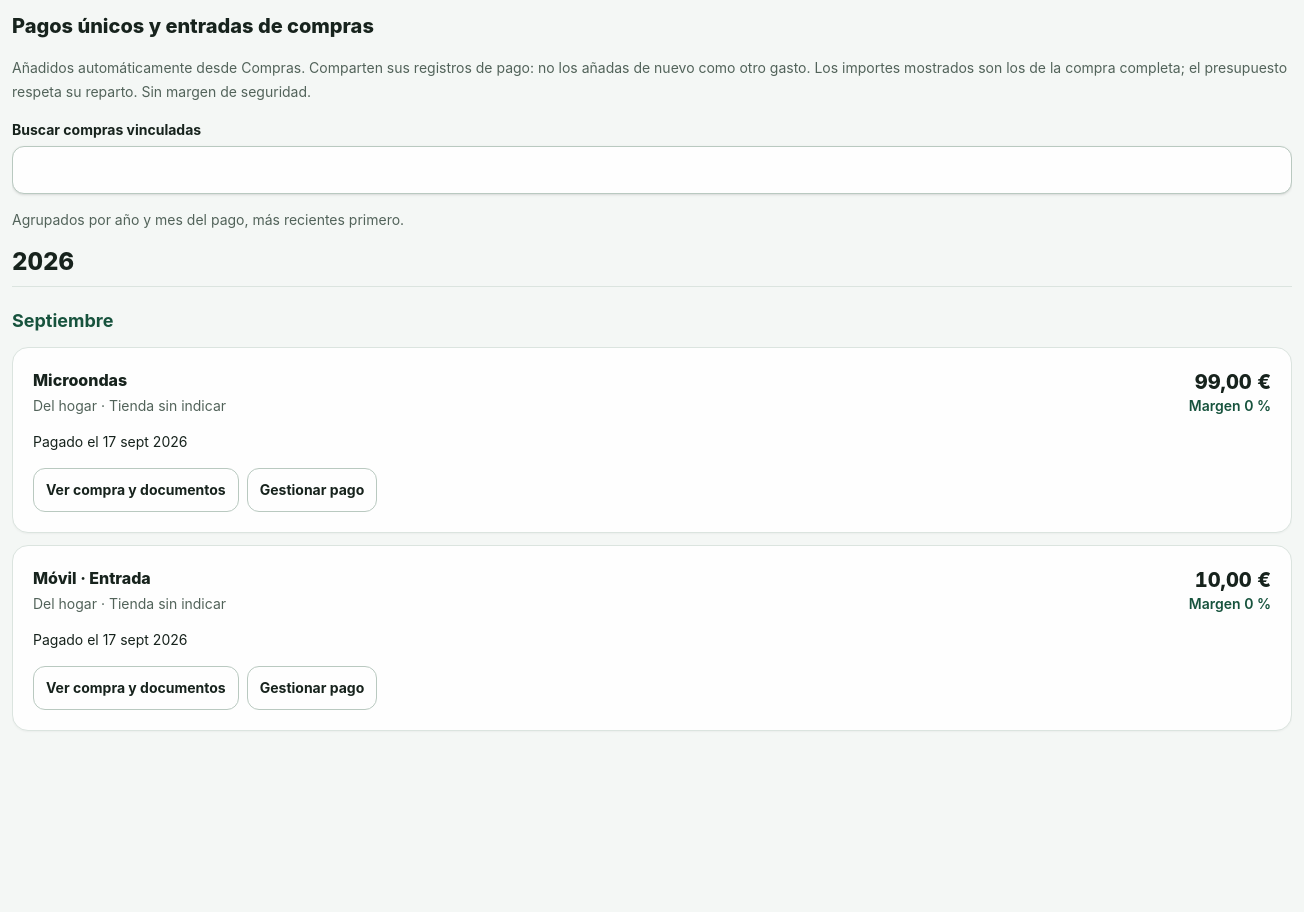
Scenario: automatic linked purchase expenses › excludes archived purchases and nonexistent entries, and provides an independent search
Type "móvil" into the search field labelled "Buscar compras vinculadas" at [652, 170], box [12, 146, 1292, 194]
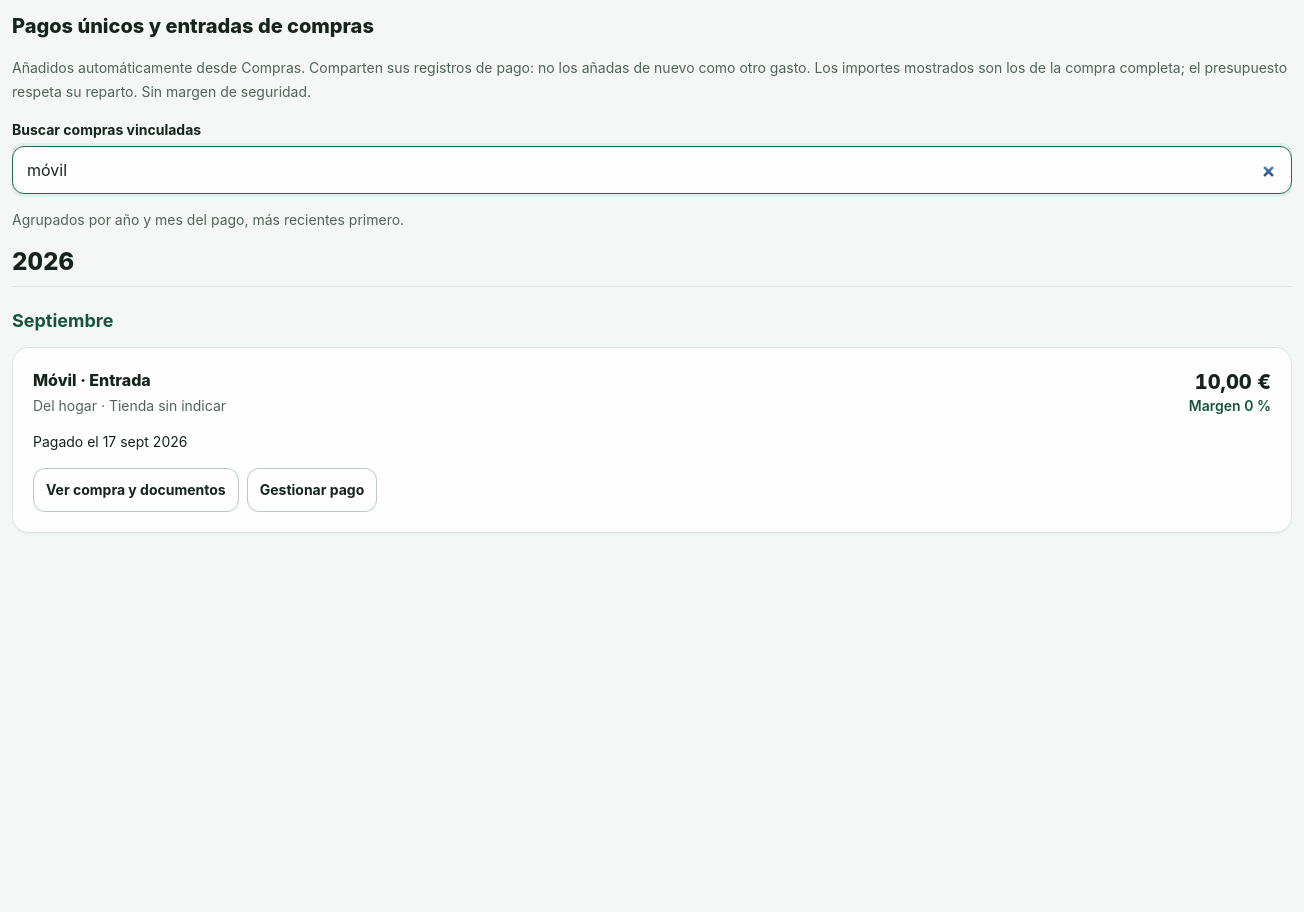
Expected: the heading "Móvil · Entrada" is shown, [33, 370, 151, 390]
Result: the heading "Microondas" is gone
